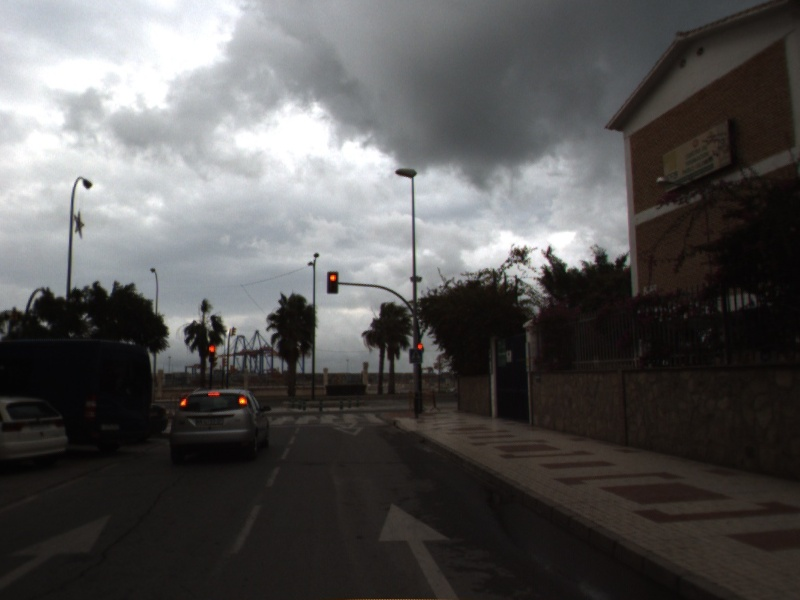STRAIGHT: (375, 500, 467, 600), (1, 509, 114, 587)
